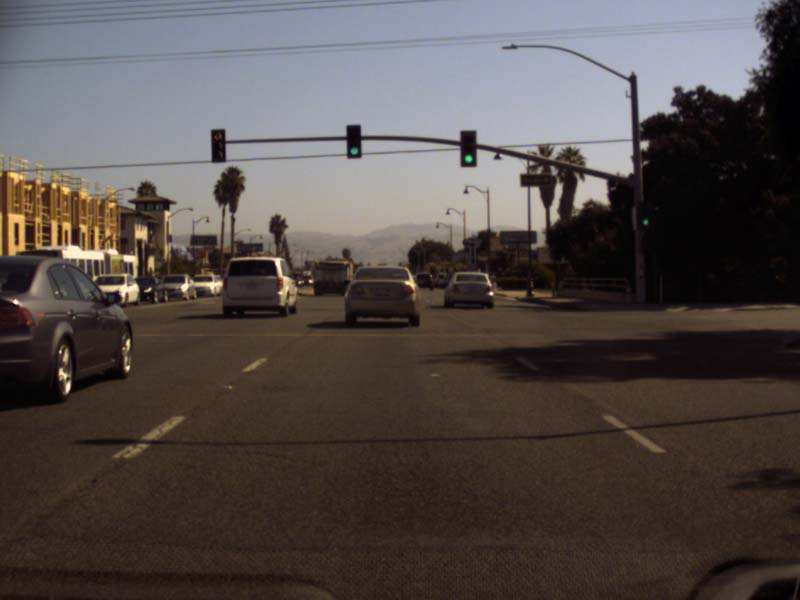Green: (460, 129, 476, 167), (346, 124, 361, 158), (638, 200, 650, 228)
Red: (210, 128, 227, 161)
